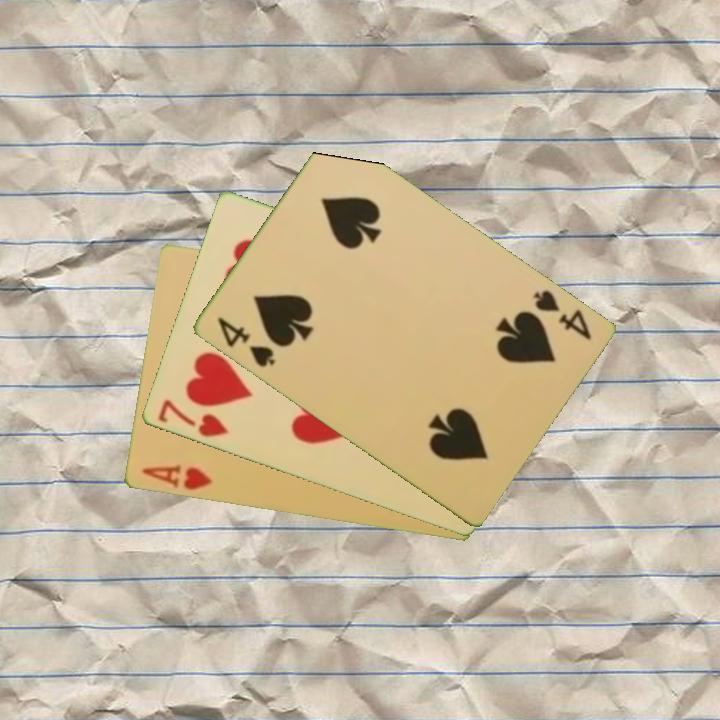4s: (212, 313, 278, 371), (529, 286, 594, 343)
7h: (154, 396, 231, 441)
Ah: (137, 461, 215, 493)
